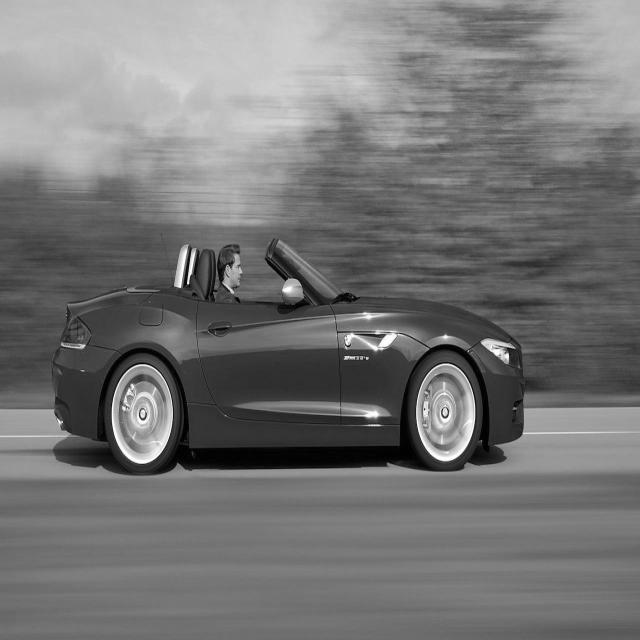car: (51, 236, 525, 474)
